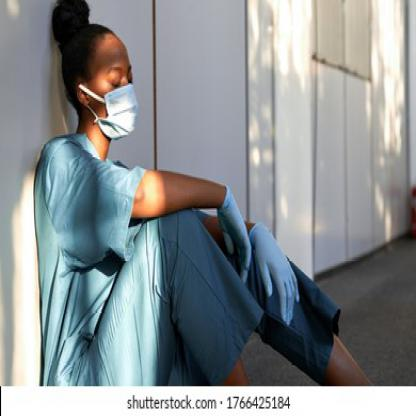with_gloves: (250, 222, 300, 328), (218, 184, 252, 281)
